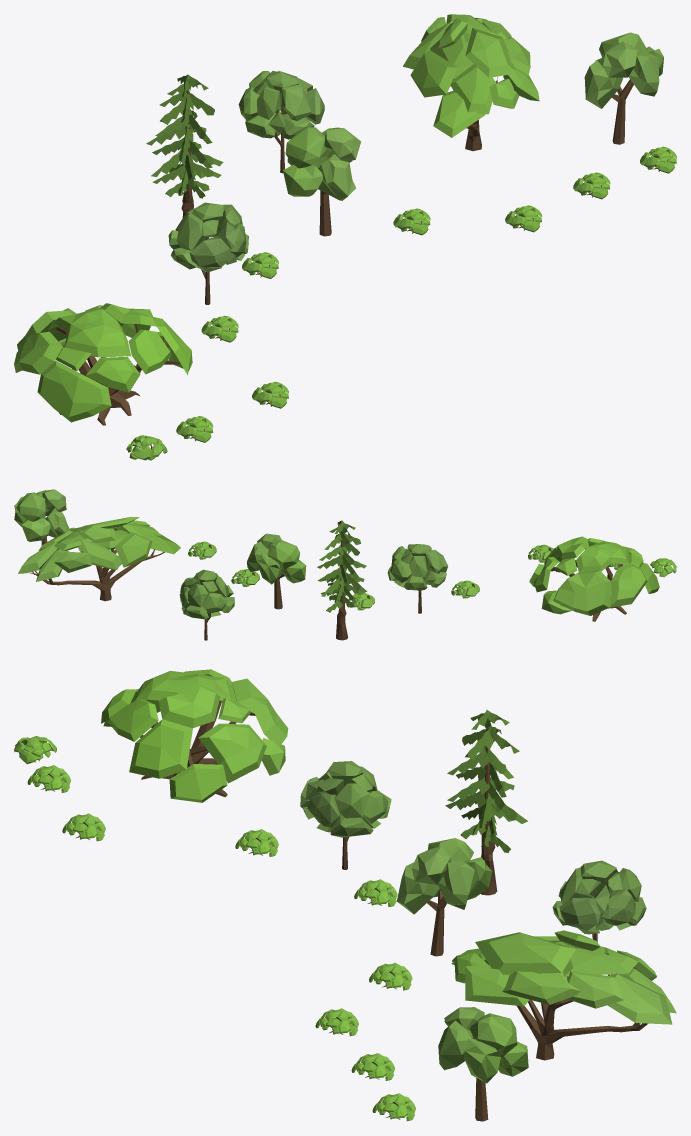
File: TreeGroup 6.fbx
The picture shows the model from 3 angles, top to bottom: view 1: azimuth 30°, elevation 25°; view 2: azimuth 150°, elevation 25°; view 3: azimuth 270°, elevation 25°; orthographic projection. The views are drawn at different scales.
Visible parts, largest first — view 1: TreeGroup__6__mesh_mesh; view 2: TreeGroup__6__mesh_mesh; view 3: TreeGroup__6__mesh_mesh.
Part boxes in pixels (left/top/right/bottom): TreeGroup__6__mesh_mesh: left=14, top=14, right=676, bottom=460; TreeGroup__6__mesh_mesh: left=14, top=489, right=676, bottom=640; TreeGroup__6__mesh_mesh: left=14, top=669, right=676, bottom=1121.
Bounding box in the file's own units: 6818 × 1477 × 4706.
